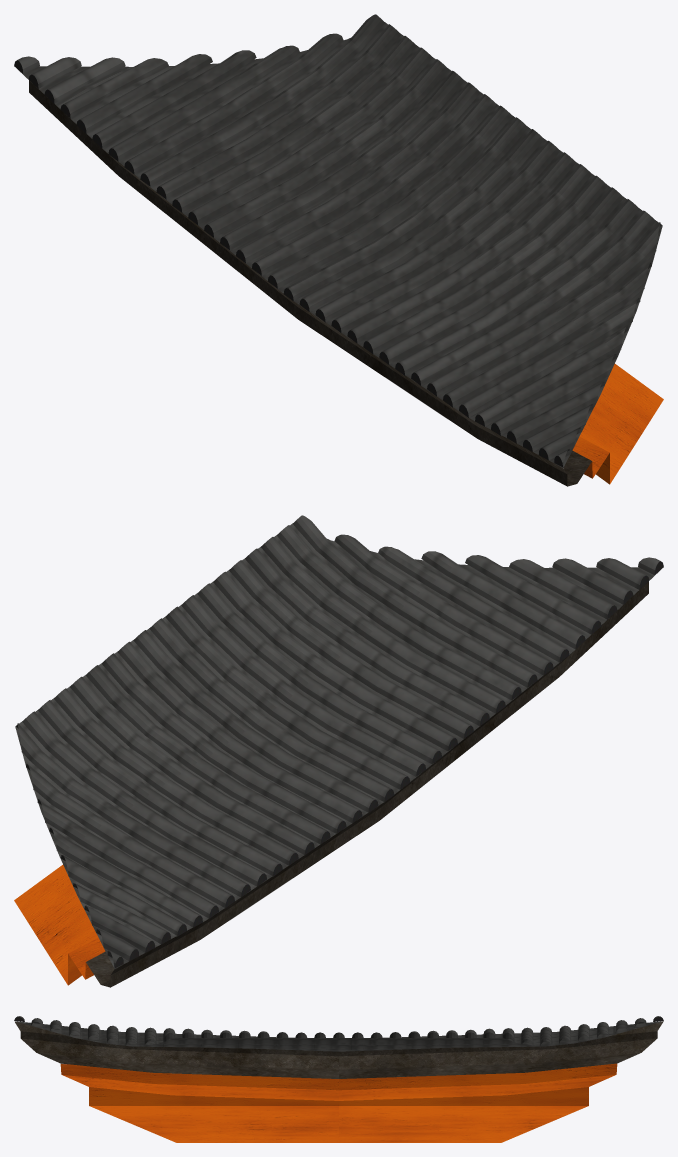
File: Roof_Temple.fbx
3 renders of one model, top to bottom at view 1: azimuth 30°, elevation 25°; view 2: azimuth 150°, elevation 25°; view 3: azimuth 270°, elevation 25°, orthographic. The views are drawn at different scales.
Parts seen in each view (by area): view 1: Roof_Temple; view 2: Roof_Temple; view 3: Roof_Temple.
Part boxes in pixels (<box>): Roof_Temple: <box>14,14,663,486</box>; Roof_Temple: <box>14,515,663,987</box>; Roof_Temple: <box>14,1016,663,1142</box>.
Size of the model in its own units: 405 by 298 by 1621.
